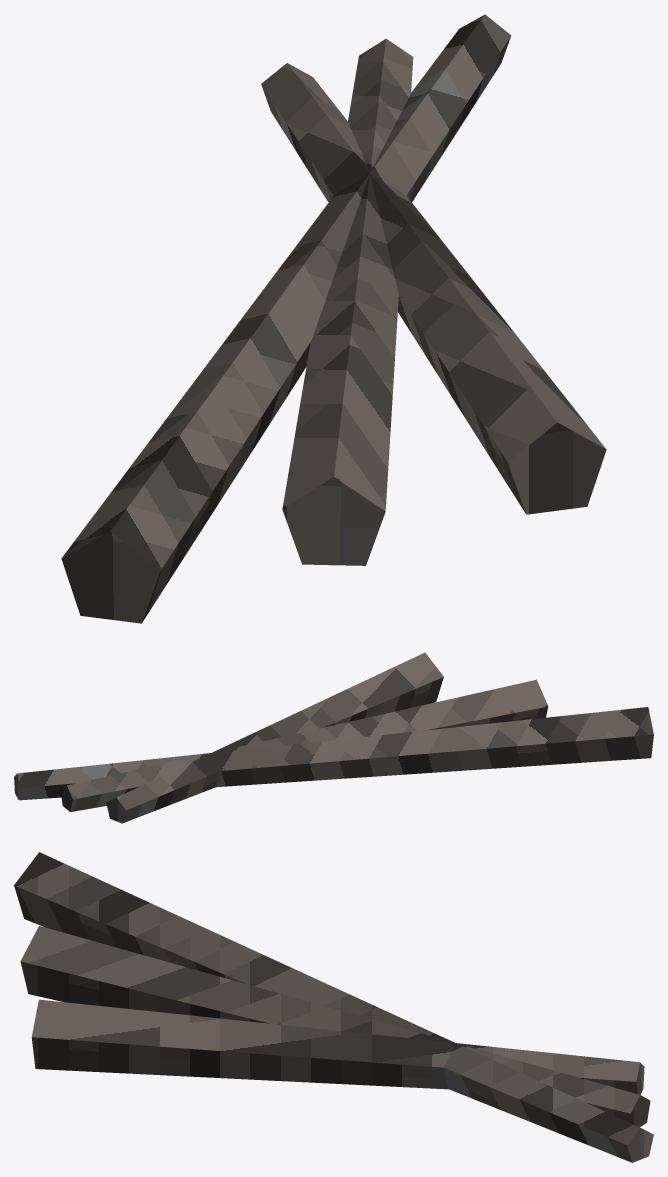
Rendered from enfeite_raiz_chao.glb.
3 views of the same model, one above another, from view 1: azimuth 30°, elevation 25°; view 2: azimuth 150°, elevation 25°; view 3: azimuth 270°, elevation 25° (orthographic). The views are drawn at different scales.
Visible parts, largest first — view 1: neve_enfeite_raiz_chao; view 2: neve_enfeite_raiz_chao; view 3: neve_enfeite_raiz_chao.
Boxes of the visible parts, x1,y1,x2,y2 form: neve_enfeite_raiz_chao: [61, 14, 606, 623]; neve_enfeite_raiz_chao: [14, 652, 653, 823]; neve_enfeite_raiz_chao: [14, 852, 653, 1162].
Size of the model in its own units: 0.3489 by 0.0344 by 0.3301.
Materials: 1 (1 with a texture image).
